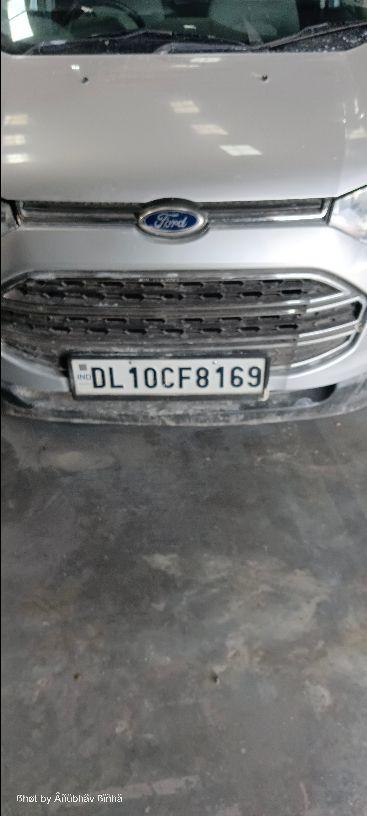license_plate: (66, 351, 270, 399)
